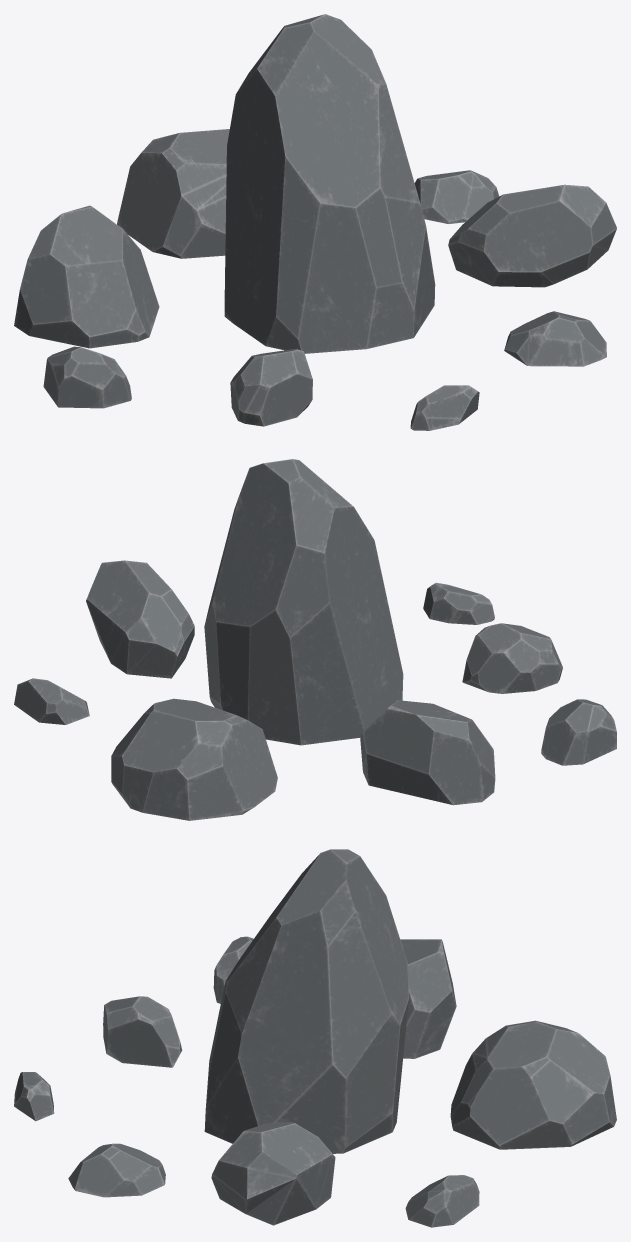
Rendered from Low_Poly_Rocks_9823ec26.glb.
3 views of the same model, one above another, from view 1: azimuth 30°, elevation 25°; view 2: azimuth 150°, elevation 25°; view 3: azimuth 270°, elevation 25° (orthographic). The views are drawn at different scales.
Parts seen in each view (by area): view 1: defaultMaterial; view 2: defaultMaterial; view 3: defaultMaterial.
Boxes of the visible parts, x1,y1,x2,y2 form: defaultMaterial: (14, 14, 616, 430); defaultMaterial: (14, 459, 616, 820); defaultMaterial: (14, 849, 616, 1227).
Bounding box in the file's own units: 2 × 0.9428 × 1.93.
Materials: 1 (1 with a texture image).
